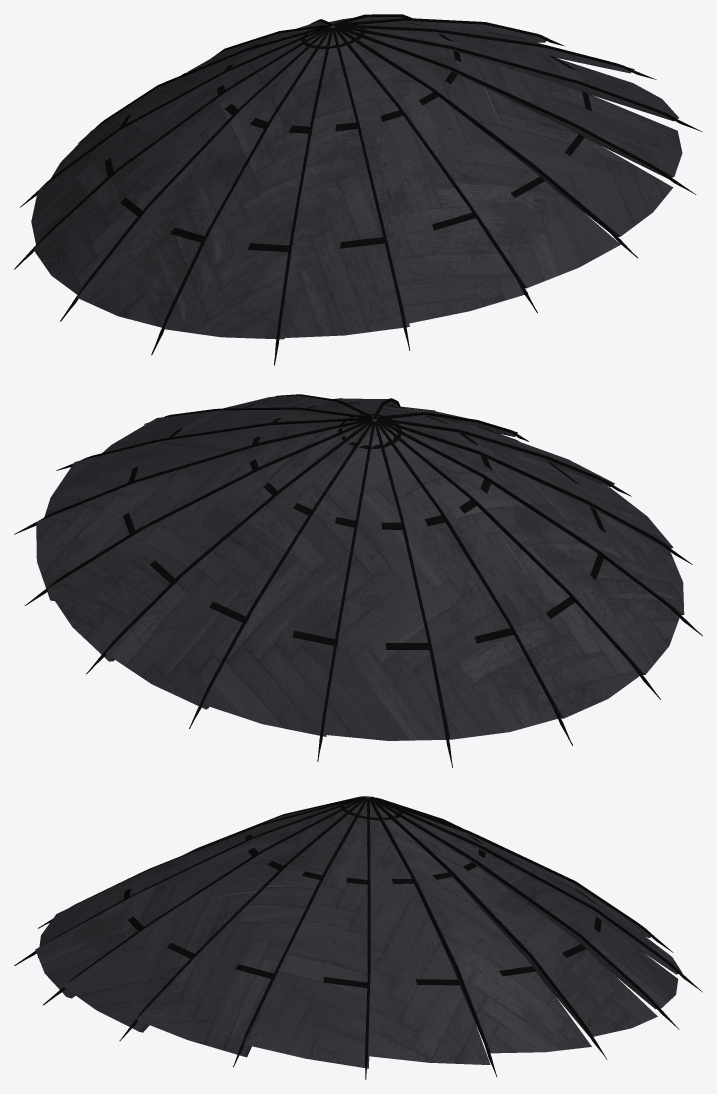
Rendered from hat2.glb.
3 views of the same model, one above another, from view 1: azimuth 30°, elevation 25°; view 2: azimuth 150°, elevation 25°; view 3: azimuth 270°, elevation 25° (orthographic). The views are drawn at different scales.
Parts seen in each view (by area): view 1: Object_2, Object_4; view 2: Object_2, Object_4; view 3: Object_2, Object_4.
Boxes of the visible parts, x1,y1,x2,y2 form: Object_2: (31,17,682,339); Object_4: (14,14,702,365); Object_2: (36,395,684,740); Object_4: (14,394,702,767); Object_2: (35,796,682,1068); Object_4: (14,796,702,1079).
Bounding box in the file's own units: 2.67 × 0.946 × 2.69.
Materials: 2 (2 with a texture image).
